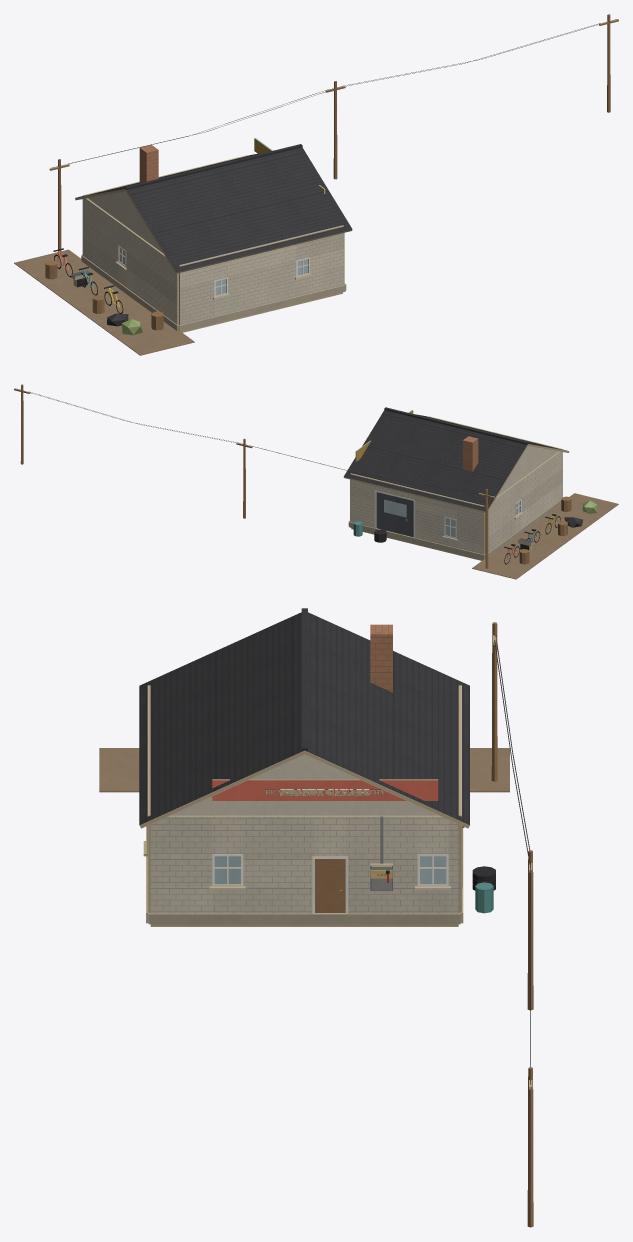
Rendered from workshop.glb.
3 renders of one model, top to bottom at view 1: azimuth 30°, elevation 25°; view 2: azimuth 150°, elevation 25°; view 3: azimuth 270°, elevation 25°, orthographic. The views are drawn at different scales.
Visible parts, largest first — view 1: workshop__building__shell, workshop__building__lot, workshop__1946__dressing, workshop__2026__dressing; view 2: workshop__building__shell, workshop__building__lot, workshop__1946__dressing, workshop__2026__dressing, workshop__1986__dressing; view 3: workshop__building__shell, workshop__2026__dressing, workshop__1946__dressing, workshop__building__lot, workshop__1986__dressing.
Part boxes in pixels (<box>): workshop__building__shell: <box>75,144,352,332</box>; workshop__building__lot: <box>14,249,194,355</box>; workshop__1946__dressing: <box>49,14,618,326</box>; workshop__2026__dressing: <box>53,248,142,335</box>; workshop__building__shell: <box>343,407,569,560</box>; workshop__building__lot: <box>472,493,618,579</box>; workshop__1946__dressing: <box>14,384,582,568</box>; workshop__2026__dressing: <box>504,500,597,564</box>; workshop__1986__dressing: <box>353,410,412,542</box>; workshop__building__shell: <box>139,608,469,926</box>; workshop__2026__dressing: <box>212,780,438,800</box>; workshop__1946__dressing: <box>265,622,533,1227</box>; workshop__building__lot: <box>99,748,509,792</box>; workshop__1986__dressing: <box>212,779,495,913</box>.
Size of the model in its own units: 22.35 by 4.3 by 8.46.
9 materials, 9 textured.
